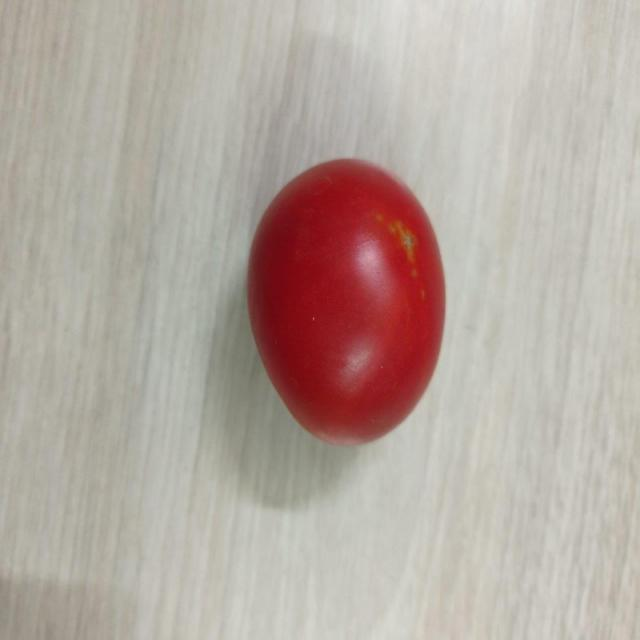Tomato: (245, 156, 450, 447)
